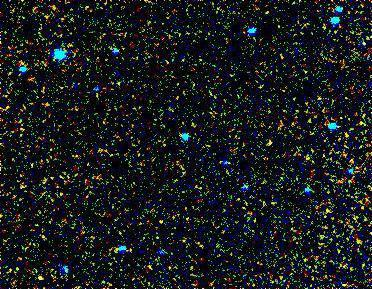star: (22, 258, 52, 288)
